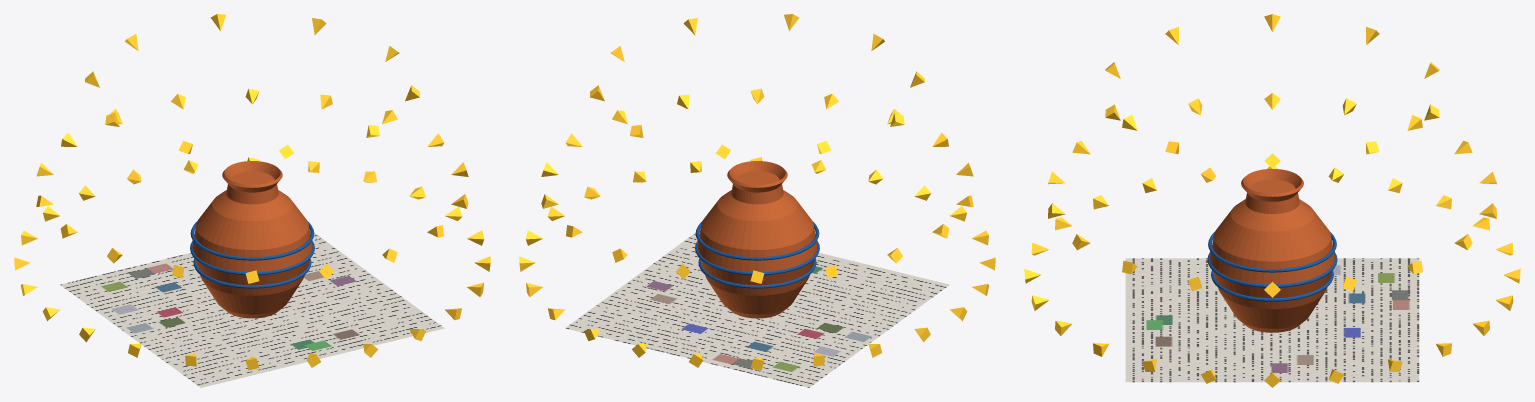
Rendered from ish06.glb.
The picture shows the model from 3 angles, left to right: view 1: azimuth 30°, elevation 25°; view 2: azimuth 150°, elevation 25°; view 3: azimuth 270°, elevation 25°; orthographic projection. The views are drawn at different scales.
Visible parts, largest first — view 1: Fon_gazeta, Koza, Naqsh_20, Naqsh_12, Naqsh_16; view 2: Fon_gazeta, Koza, Naqsh_20, Naqsh_12, Naqsh_16; view 3: Fon_gazeta, Koza, Naqsh_20, Naqsh_16, Naqsh_12.
Part boxes in pixels (left/top/right/bottom): Fon_gazeta: left=60, top=229, right=444, bottom=387; Koza: left=192, top=161, right=312, bottom=318; Naqsh_20: left=190, top=222, right=314, bottom=260; Naqsh_12: left=193, top=258, right=311, bottom=288; Naqsh_16: left=190, top=240, right=314, bottom=275; Fon_gazeta: left=565, top=229, right=949, bottom=387; Koza: left=697, top=161, right=817, bottom=318; Naqsh_20: left=695, top=222, right=819, bottom=260; Naqsh_12: left=698, top=258, right=816, bottom=288; Naqsh_16: left=695, top=240, right=819, bottom=275; Fon_gazeta: left=1125, top=258, right=1419, bottom=382; Koza: left=1210, top=169, right=1334, bottom=332; Naqsh_20: left=1208, top=232, right=1336, bottom=272; Naqsh_16: left=1207, top=251, right=1337, bottom=287; Naqsh_12: left=1211, top=270, right=1333, bottom=301.
Size of the model in its own units: 1.18 by 0.6229 by 1.18.
Materials: 4 (1 with a texture image).
